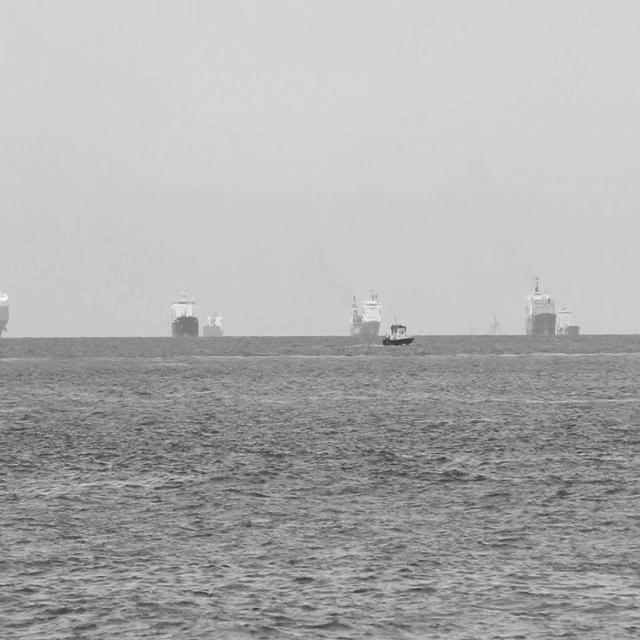ship: (520, 272, 556, 338), (345, 286, 383, 343), (169, 283, 199, 343), (380, 317, 414, 349), (558, 300, 583, 342), (204, 308, 228, 346), (488, 311, 506, 338)
